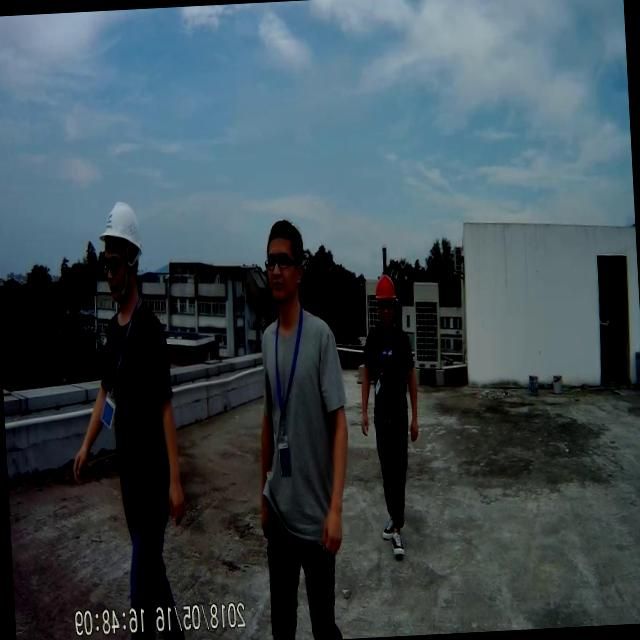helmet: (97, 198, 144, 260), (372, 273, 397, 308)
no-helmet: (263, 214, 304, 256)
no-vest: (254, 312, 344, 515), (103, 309, 168, 508), (361, 318, 416, 438)
